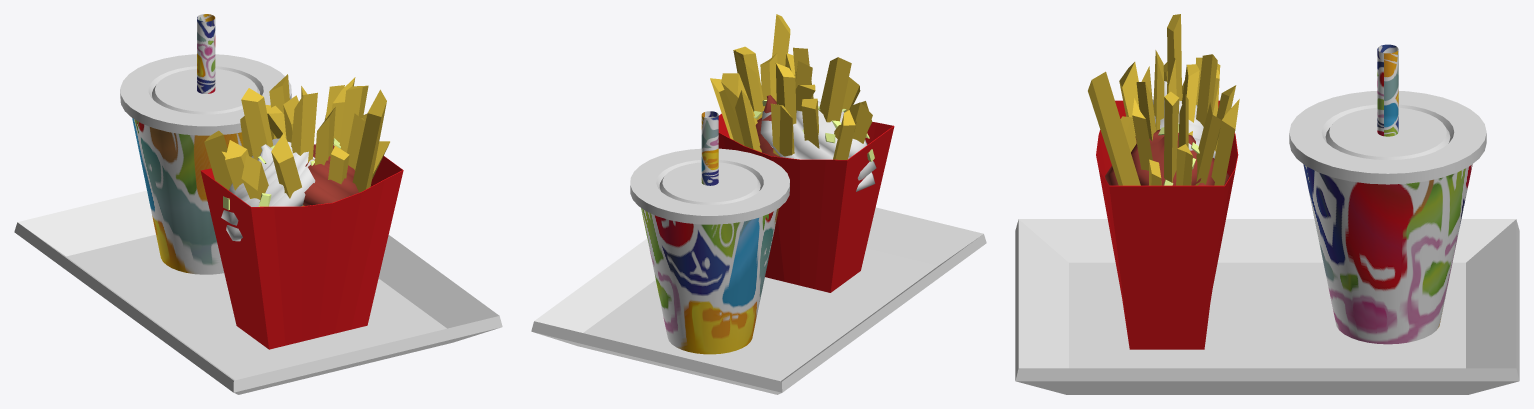
File: FriesCoke.fbx
The picture shows the model from 3 angles, left to right: view 1: azimuth 30°, elevation 25°; view 2: azimuth 150°, elevation 25°; view 3: azimuth 270°, elevation 25°; orthographic projection. The views are drawn at different scales.
Visible parts, largest first — view 1: Tray, Container, Fries, Lid, Cup, Mayo, Ketchup, Straw; view 2: Tray, Cup, Container, Fries, Lid, Mayo, Straw, Ketchup; view 3: Tray, Cup, Container, Fries, Lid, Straw, Ketchup, Mayo.
Part boxes in pixels (x1,y1,x2,y2): Tray: [14, 190, 502, 394]; Container: [200, 144, 403, 349]; Fries: [204, 74, 389, 206]; Lid: [120, 54, 291, 135]; Cup: [132, 118, 243, 274]; Mayo: [221, 138, 315, 241]; Ketchup: [303, 143, 358, 205]; Straw: [197, 14, 215, 93]; Tray: [531, 207, 986, 394]; Cup: [641, 208, 778, 354]; Container: [718, 113, 894, 292]; Fries: [710, 14, 872, 159]; Lid: [630, 148, 789, 224]; Mayo: [760, 101, 876, 191]; Straw: [701, 111, 718, 185]; Ketchup: [755, 95, 779, 156]; Tray: [1015, 219, 1519, 394]; Cup: [1303, 164, 1472, 344]; Container: [1096, 100, 1238, 349]; Fries: [1088, 14, 1239, 185]; Lid: [1289, 91, 1486, 184]; Straw: [1377, 44, 1398, 136]; Ketchup: [1105, 129, 1229, 185]; Mayo: [1152, 81, 1215, 158].
Size of the model in its own units: 36.09 by 32.81 by 50.92.
Materials: 7 (1 with a texture image).
